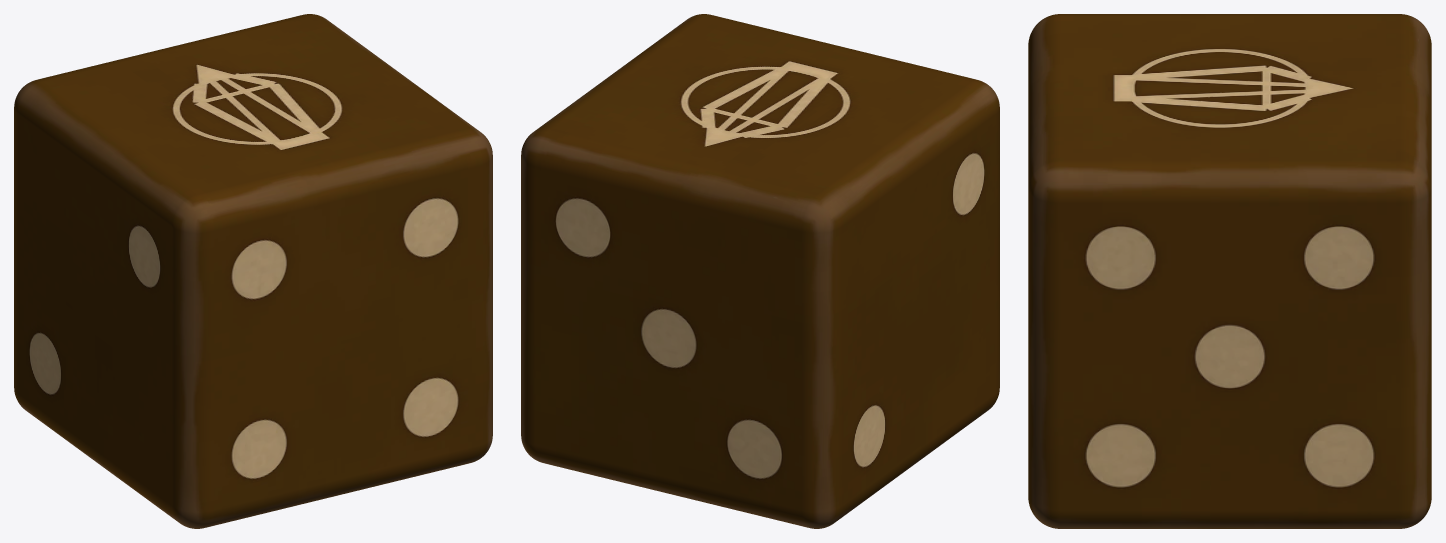
File: dice_6.gltf
3 renders of one model, left to right at view 1: azimuth 30°, elevation 25°; view 2: azimuth 150°, elevation 25°; view 3: azimuth 270°, elevation 25°, orthographic. The views are drawn at different scales.
Parts seen in each view (by area): view 1: dice_6; view 2: dice_6; view 3: dice_6.
Part boxes in pixels (bbox=[...]): dice_6: bbox=[14, 14, 492, 528]; dice_6: bbox=[521, 14, 999, 528]; dice_6: bbox=[1028, 14, 1431, 528].
Bounding box in the file's own units: 104 × 104 × 104.
Materials: 1 (1 with a texture image).
